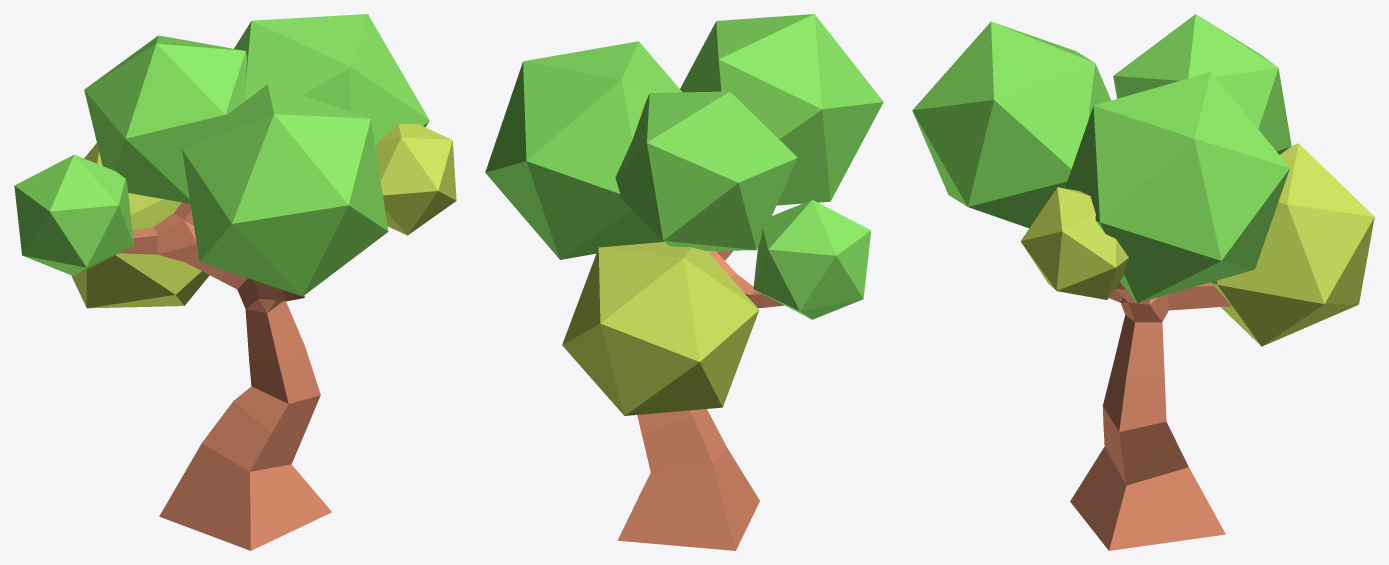
The model's file is Tree 1.fbx.
3 renders of one model, left to right at view 1: azimuth 30°, elevation 25°; view 2: azimuth 150°, elevation 25°; view 3: azimuth 270°, elevation 25°, orthographic. The views are drawn at different scales.
Visible parts, largest first — view 1: Tree 1; view 2: Tree 1; view 3: Tree 1.
Boxes of the visible parts, left/top/right/bottom form: Tree 1: left=14, top=14, right=456, bottom=550; Tree 1: left=485, top=14, right=883, bottom=550; Tree 1: left=912, top=14, right=1374, bottom=550.
Bounding box in the file's own units: 364 × 440 × 391.
